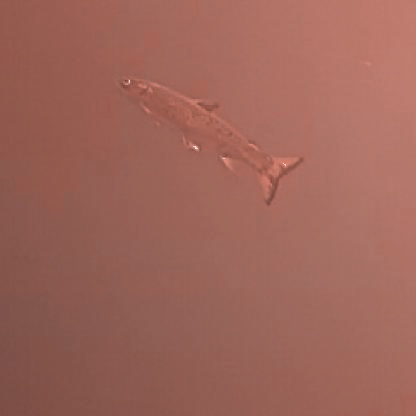salmon: (109, 70, 305, 206)
